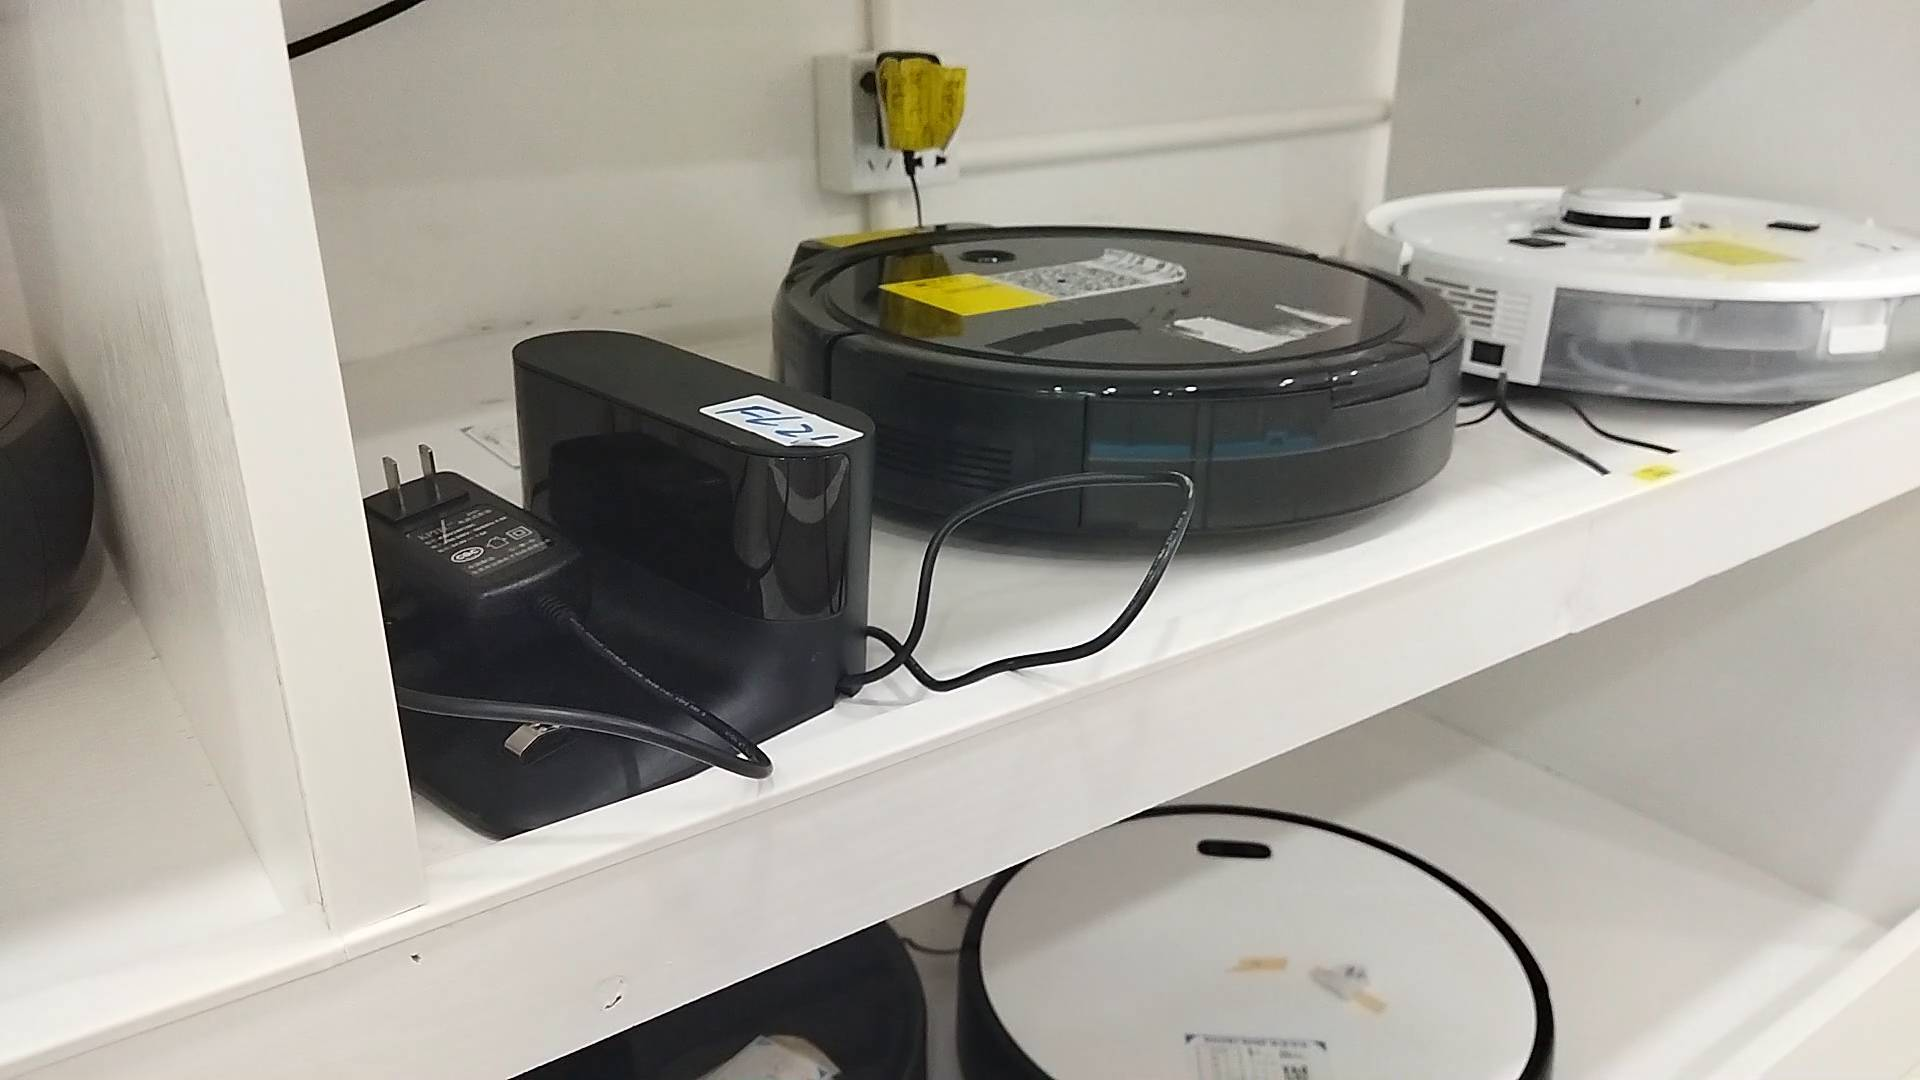recharge seat: (388, 328, 884, 836)
